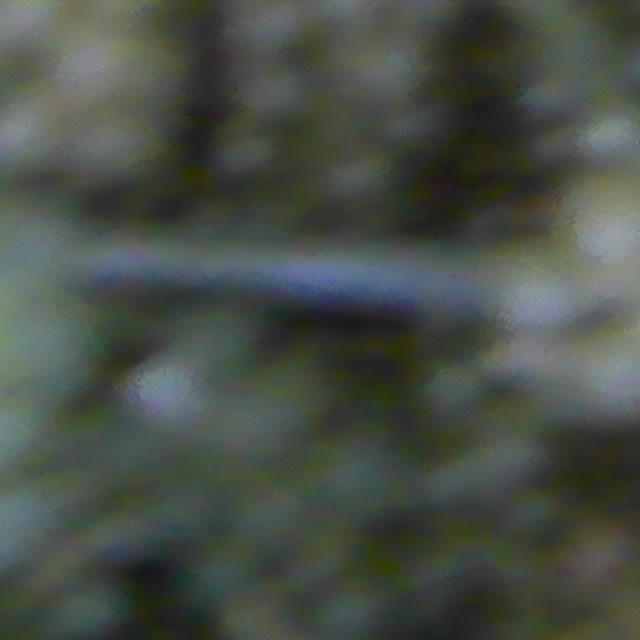SeaGrape: (477, 238, 590, 339), (555, 175, 640, 286), (326, 130, 407, 206), (340, 36, 415, 106), (239, 49, 313, 108), (578, 105, 640, 170), (229, 0, 297, 43)
